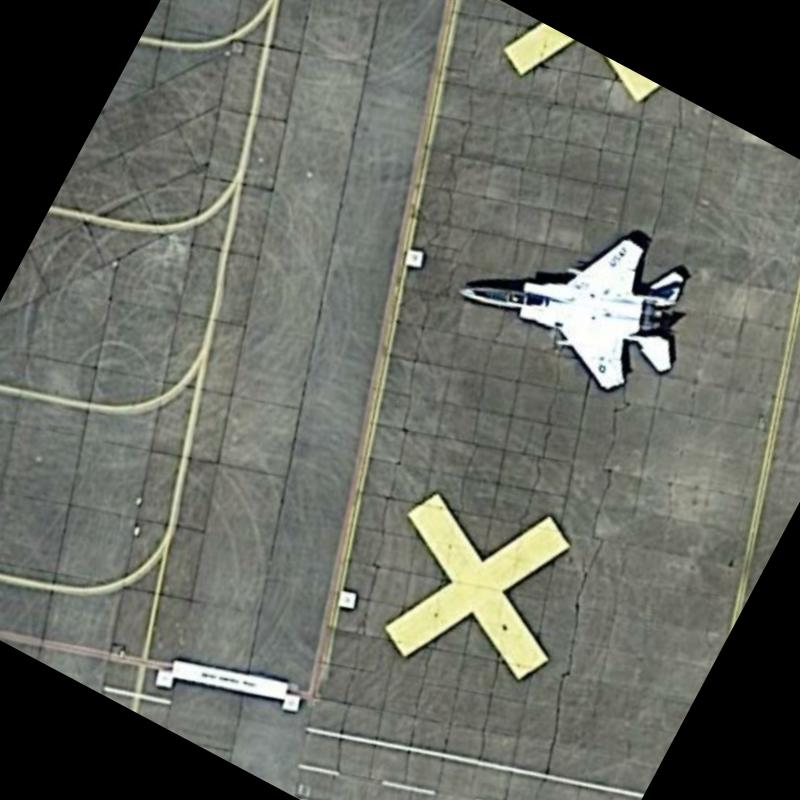A13: (441, 168, 729, 423)
